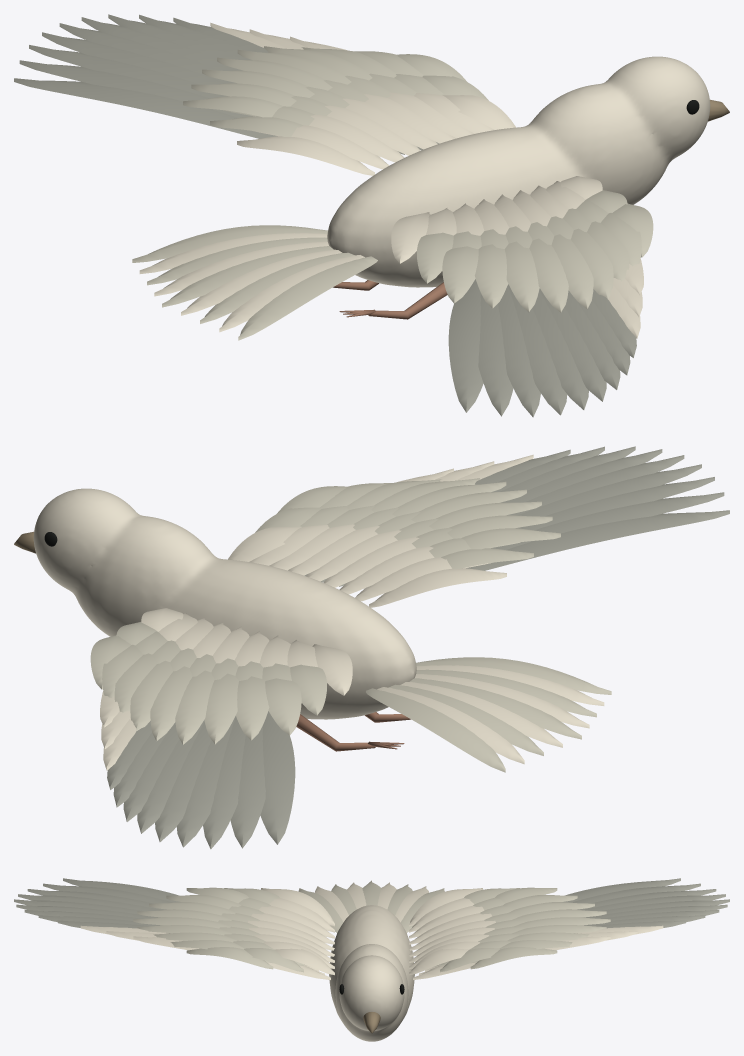
File: bird.glb
The picture shows the model from 3 angles, top to bottom: view 1: azimuth 30°, elevation 25°; view 2: azimuth 150°, elevation 25°; view 3: azimuth 270°, elevation 25°; orthographic projection. The views are drawn at different scales.
Parts seen in each view (by area): view 1: Body, RightWingPrimary3, RightWingCovert1-0, LeftWingPrimary3, LeftWingCovert1-0, LeftWingPrimary0, TailFeather0, RightWingPrimary0, Leg-1; view 2: Body, LeftWingPrimary3, LeftWingCovert1-0, RightWingPrimary3, RightWingCovert1-0, RightWingPrimary0, TailFeather0, LeftWingPrimary0, Leg-1; view 3: Body, RightWingCovert1-0, LeftWingCovert1-0, LeftWingPrimary0, RightWingPrimary0, LeftWingPrimary3, RightWingPrimary3, TailFeather0.
Part boxes in pixels (box(x1,y1,x2,y2)): Body: box(139, 56, 710, 332); RightWingPrimary3: box(448, 279, 636, 417); RightWingCovert1-0: box(417, 190, 653, 312); LeftWingPrimary3: box(14, 14, 439, 154); LeftWingCovert1-0: box(183, 46, 488, 136); LeftWingPrimary0: box(210, 22, 515, 175); TailFeather0: box(132, 225, 377, 340); RightWingPrimary0: box(391, 176, 643, 338); Leg-1: box(333, 280, 447, 319); Body: box(33, 488, 604, 764); LeftWingPrimary3: box(107, 711, 295, 849); LeftWingCovert1-0: box(90, 622, 326, 744); RightWingPrimary3: box(304, 446, 729, 586); RightWingCovert1-0: box(255, 478, 560, 568); RightWingPrimary0: box(228, 454, 533, 607); TailFeather0: box(366, 657, 611, 772); LeftWingPrimary0: box(100, 608, 352, 770); Leg-1: box(296, 712, 410, 751); Body: box(315, 882, 428, 1041); RightWingCovert1-0: box(133, 887, 303, 972); LeftWingCovert1-0: box(440, 887, 610, 972); LeftWingPrimary0: box(409, 888, 663, 979); RightWingPrimary0: box(80, 888, 334, 979); LeftWingPrimary3: box(434, 878, 729, 966); RightWingPrimary3: box(14, 878, 180, 928); TailFeather0: box(298, 880, 444, 932).
Bounding box in the file's own units: 1.09 × 0.3278 × 1.74.
